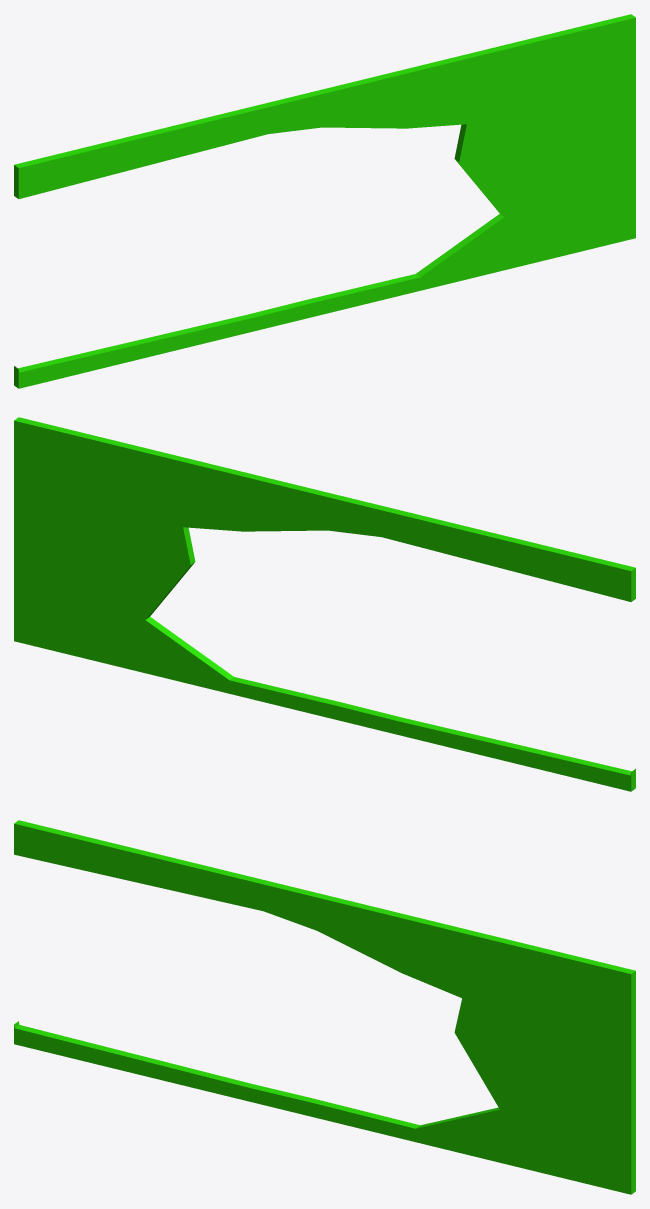
File: BH03_Wall_05_Break_Collider.fbx
3 views of the same model, one above another, from view 1: azimuth 30°, elevation 25°; view 2: azimuth 150°, elevation 25°; view 3: azimuth 330°, elevation 25° (orthographic).
Visible parts, largest first — view 1: BH03_Wall_05_Break_Collider; view 2: BH03_Wall_05_Break_Collider; view 3: BH03_Wall_05_Break_Collider.
Part boxes in pixels (x1,y1,x2,y2): BH03_Wall_05_Break_Collider: (14, 14, 635, 388); BH03_Wall_05_Break_Collider: (14, 417, 635, 791); BH03_Wall_05_Break_Collider: (14, 820, 635, 1194).
Size of the model in its own units: 1071 by 366 by 14.39.
